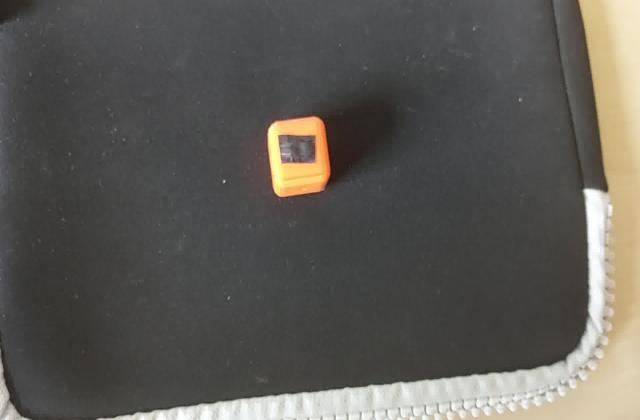black: (273, 132, 321, 168)
sticker: (264, 116, 332, 198)
